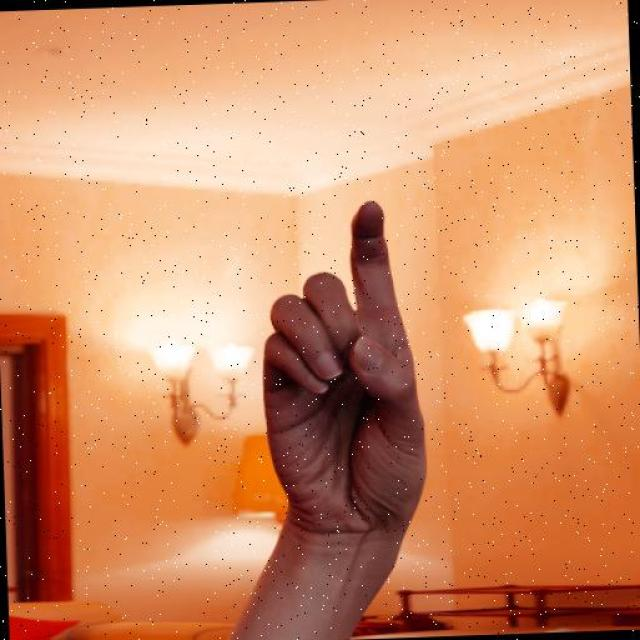X: (249, 197, 437, 556)
